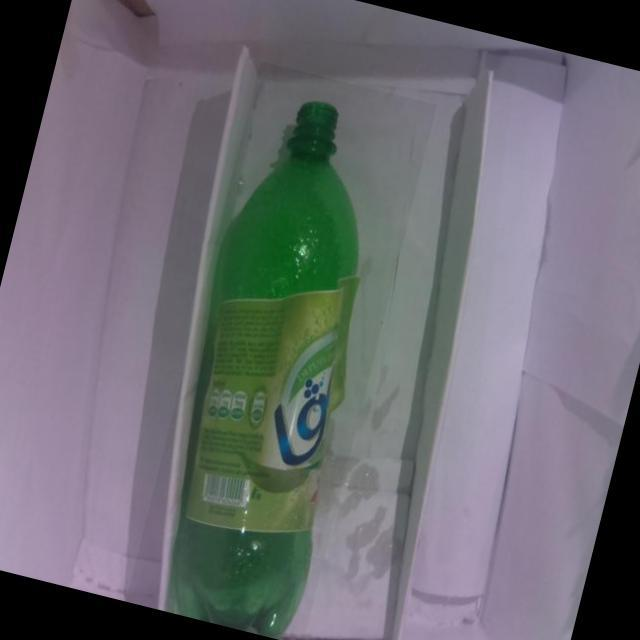good: (124, 59, 436, 639)
